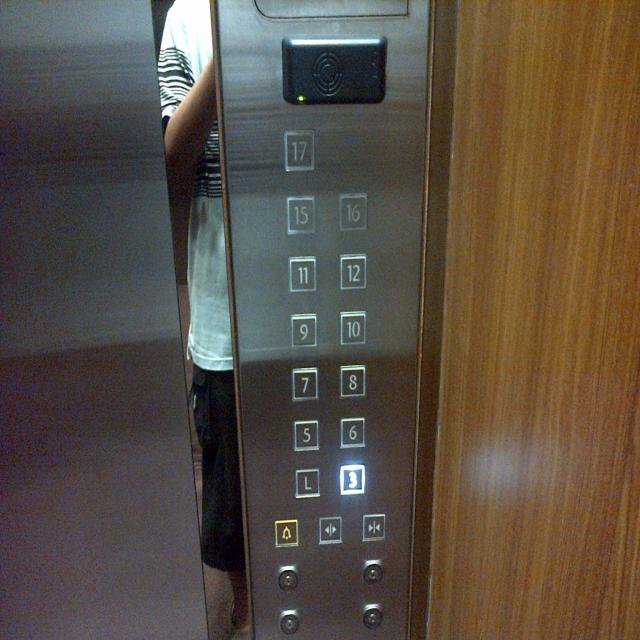10: (338, 309, 367, 346)
11: (287, 254, 316, 294)
12: (338, 252, 368, 292)
15: (285, 194, 316, 236)
16: (338, 192, 368, 233)
17: (283, 127, 315, 173)
3: (338, 463, 366, 496)
5: (293, 418, 319, 453)
6: (340, 416, 366, 449)
7: (291, 366, 319, 403)
8: (338, 362, 366, 400)
9: (290, 311, 318, 348)
L: (294, 467, 320, 499)
alarm: (274, 518, 298, 548)
close: (362, 514, 385, 542)
keyhole: (278, 609, 302, 637), (278, 562, 300, 592), (362, 603, 382, 629), (362, 560, 383, 584)
open: (318, 514, 342, 546)
